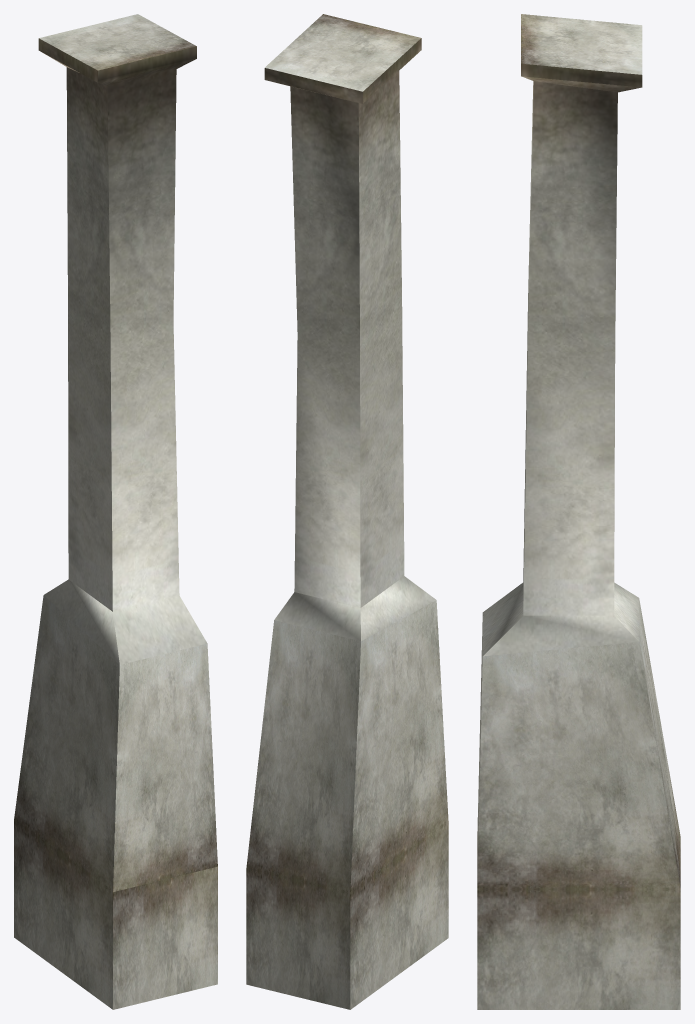
Rendered from english_chimney.fbx.
3 renders of one model, left to right at view 1: azimuth 30°, elevation 25°; view 2: azimuth 150°, elevation 25°; view 3: azimuth 270°, elevation 25°, orthographic. The views are drawn at different scales.
Parts seen in each view (by area): view 1: lod_high; view 2: lod_high; view 3: lod_high.
Boxes of the visible parts, bbox=[...] form: lod_high: bbox=[14, 14, 217, 1009]; lod_high: bbox=[246, 14, 448, 1009]; lod_high: bbox=[477, 14, 680, 1009].
Size of the model in its own units: 469 by 3924 by 764.
1 material, 1 textured.
